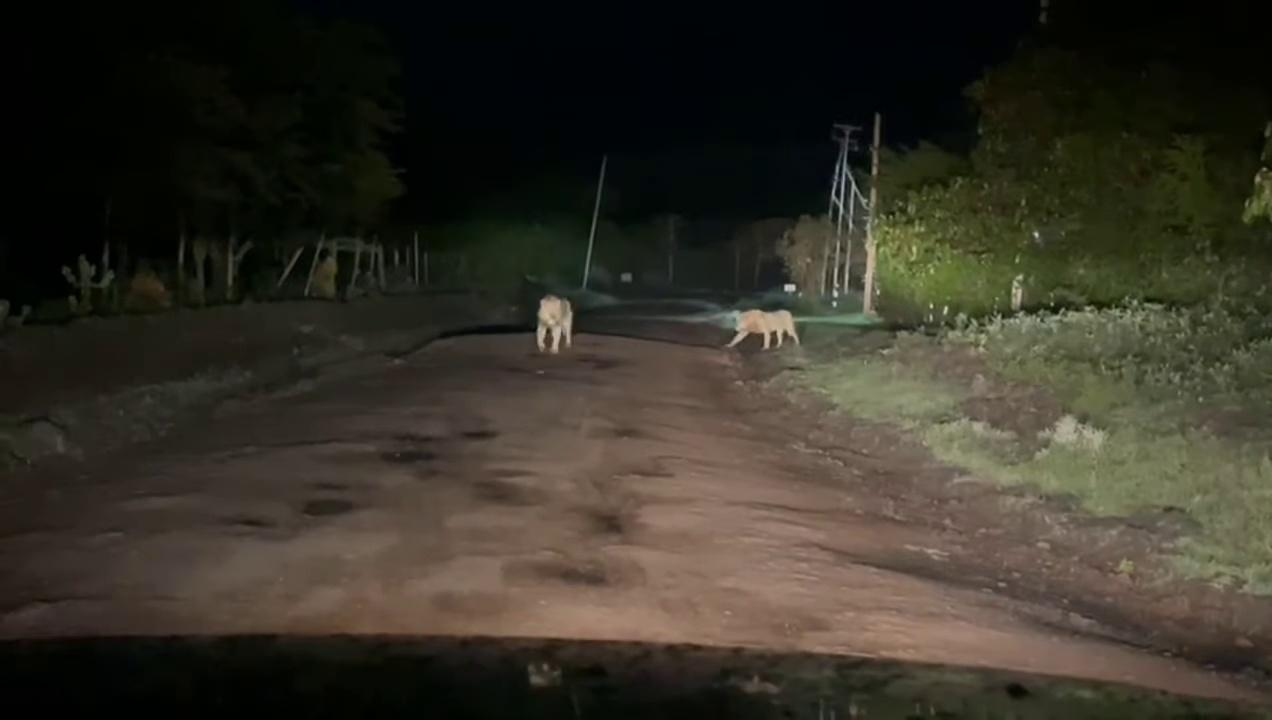lions: (480, 257, 835, 400)
